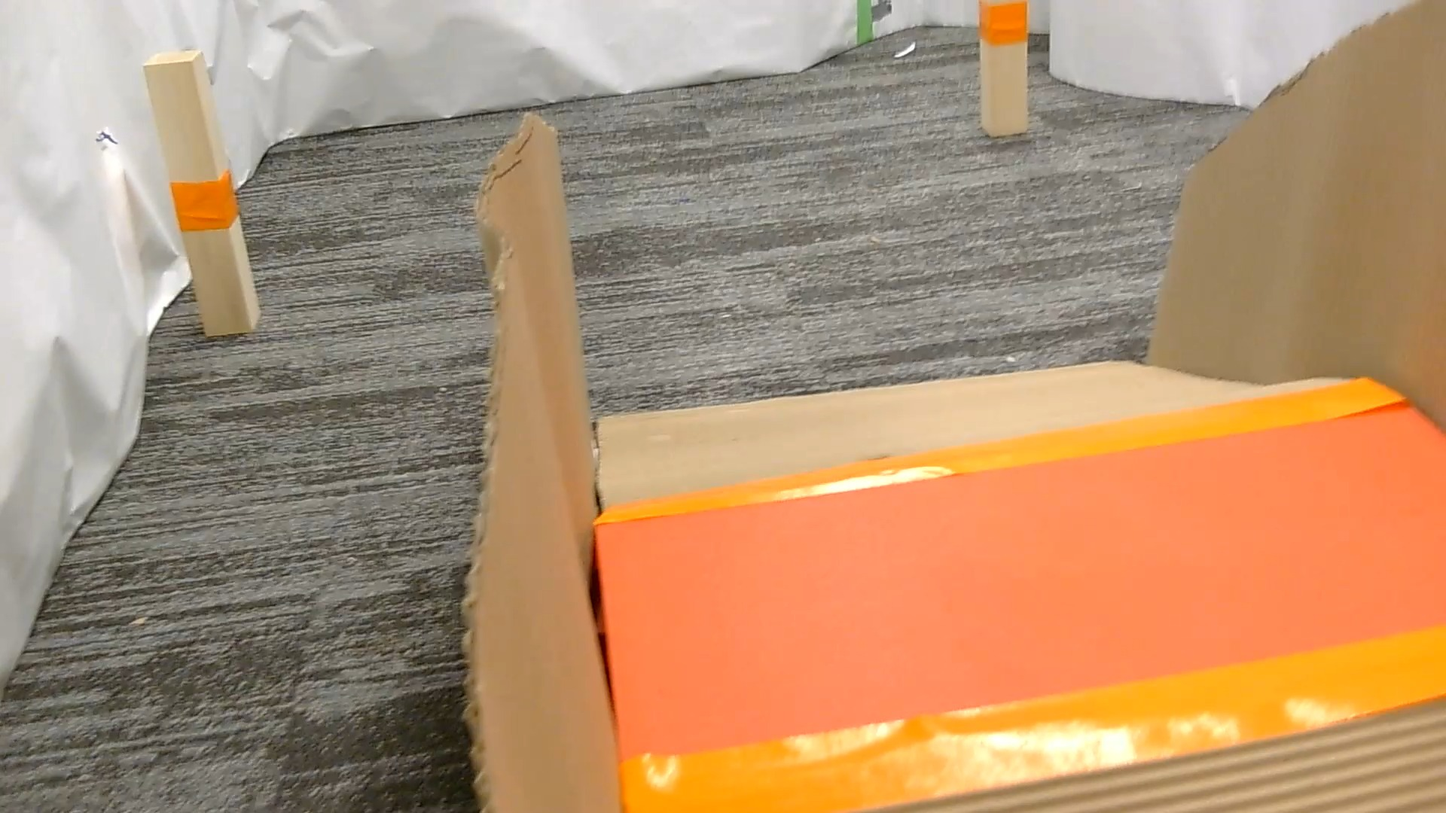Ramp: (463, 0, 1445, 812)
Wooden Block: (145, 50, 258, 336), (978, 0, 1028, 137)
